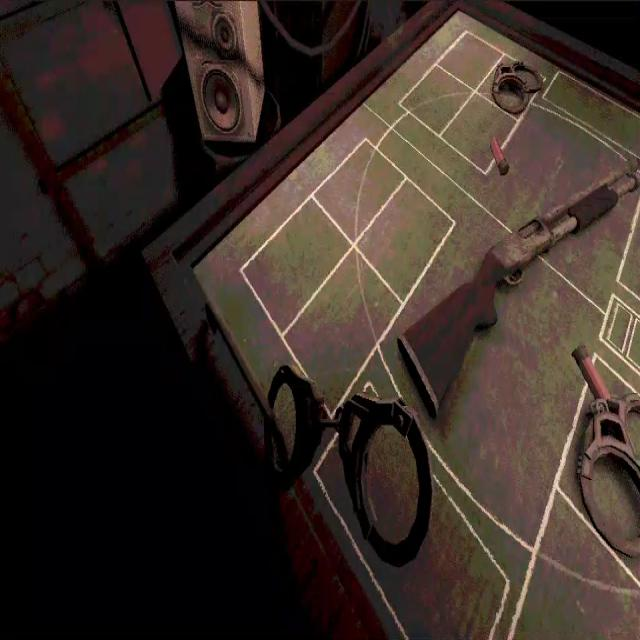ally: (198, 100, 639, 639)
emptyspace: (286, 245, 398, 411), (241, 189, 357, 330), (352, 177, 456, 304), (314, 137, 404, 242), (441, 89, 516, 171), (399, 61, 473, 136), (441, 30, 505, 88)
enemyspace: (363, 4, 639, 359)
gun: (398, 170, 639, 409)
